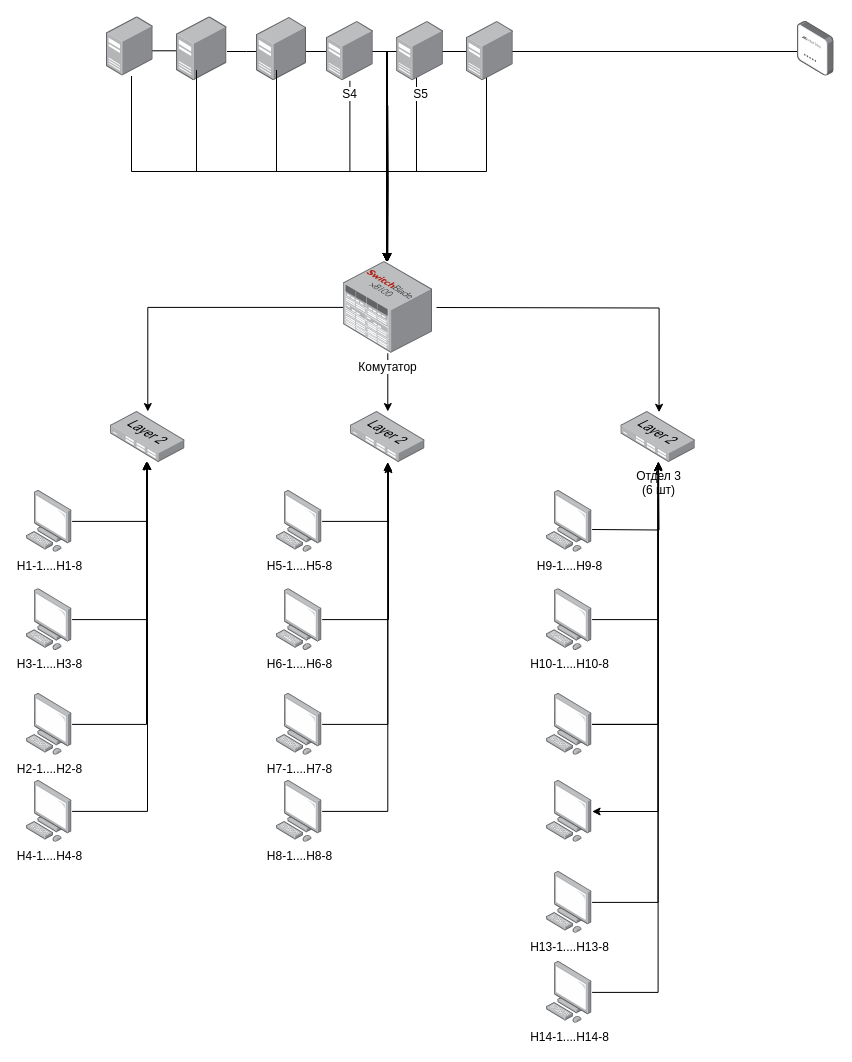
Some shapes in this 852 by 1062 pixel diagram are drawn without their labels. Here are the shapes that lost their labels. From the top down, the centre of each, then its label:
the point at 129,46: S1
the point at 201,48: S2
the point at 281,48: S3
the point at 489,50: S6
the point at 147,436: Отдел 1 (4 шт)
the point at 387,436: Отдел 2 (4 шт)
the point at 569,724: H11-1....H11-8
the point at 569,811: H12-1....H12-8
